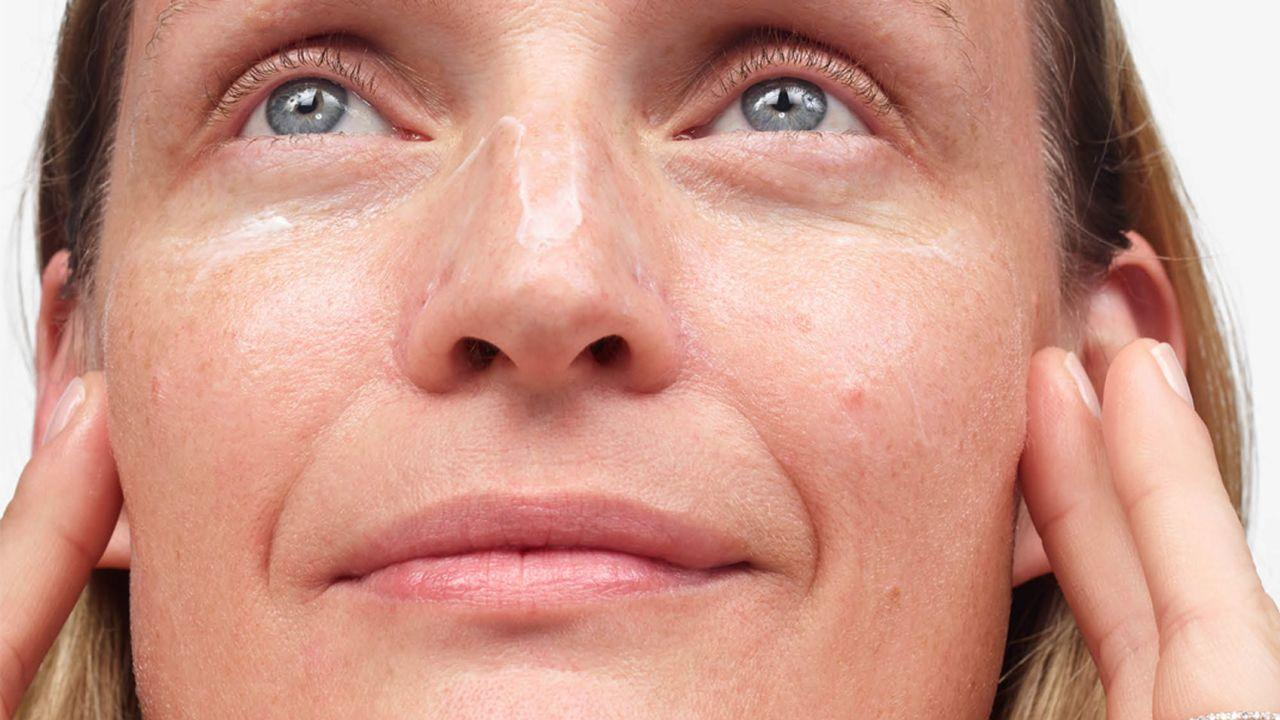Dry-Skin: (645, 141, 1019, 305), (469, 89, 612, 286), (221, 163, 414, 266)
